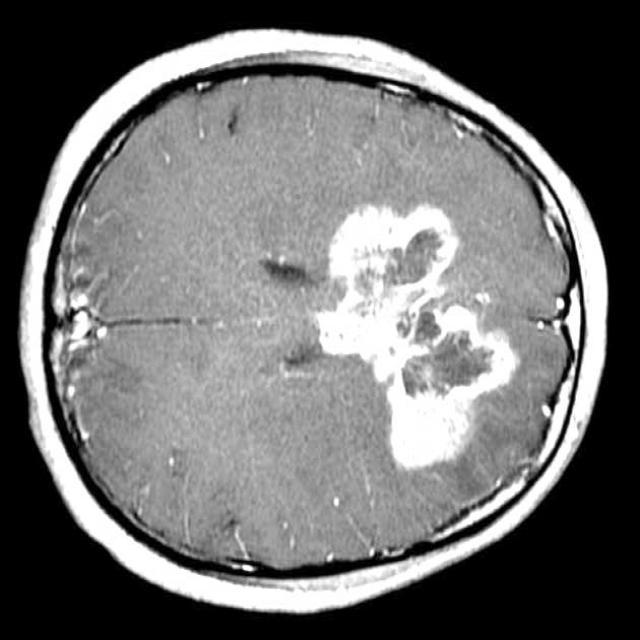tumor: (315, 203, 521, 466)
